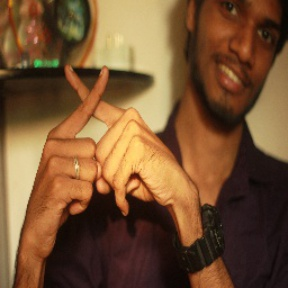X: (45, 58, 145, 158)
